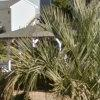Palm tree: (46, 9, 100, 98)
